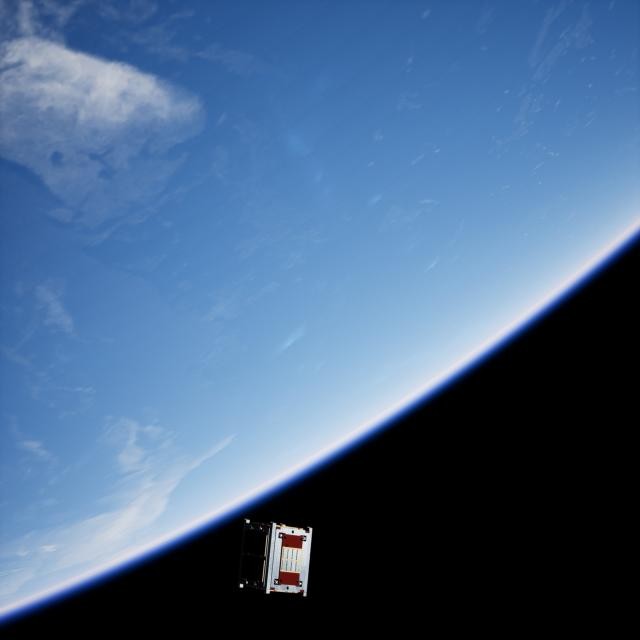satellite: (228, 511, 324, 605)
